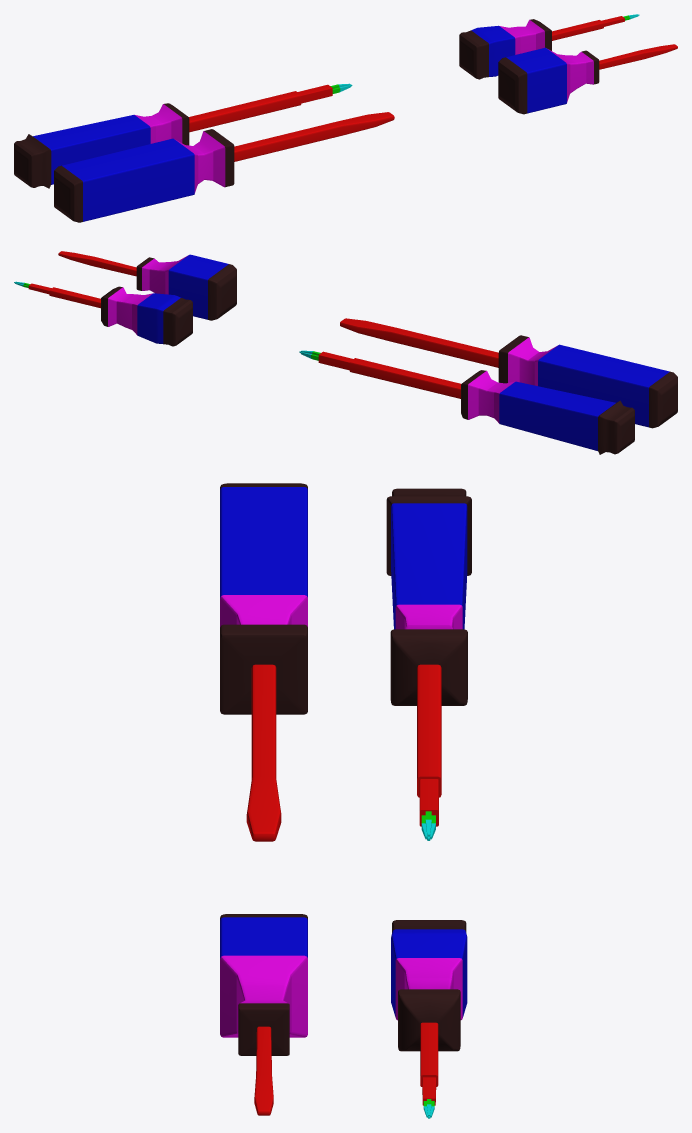
The model's file is ScrewDriversSet.fbx.
3 views of the same model, one above another, from view 1: azimuth 30°, elevation 25°; view 2: azimuth 150°, elevation 25°; view 3: azimuth 270°, elevation 25° (orthographic). The views are drawn at different scales.
Parts seen in each view (by area): view 1: PhillipsHead (×2), FlatHead, FlatHeadMini; view 2: PhillipsHead (×2), FlatHead, FlatHeadMini; view 3: PhillipsHead (×2), FlatHead, FlatHeadMini.
Boxes of the visible parts, x1=… form: PhillipsHead (×2): x1=14, y1=16, x2=624, y2=188; FlatHead: x1=54, y1=112, x2=394, y2=222; FlatHeadMini: x1=498, y1=44, x2=677, y2=114; PhillipsHead (×2): x1=28, y1=283, x2=634, y2=454; FlatHead: x1=340, y1=318, x2=677, y2=428; FlatHeadMini: x1=58, y1=251, x2=236, y2=320; PhillipsHead (×2): x1=386, y1=488, x2=471, y2=1105; FlatHead: x1=220, y1=483, x2=307, y2=841; FlatHeadMini: x1=220, y1=914, x2=307, y2=1115.
Size of the model in its own units: 12.28 by 0.7839 by 2.18.
